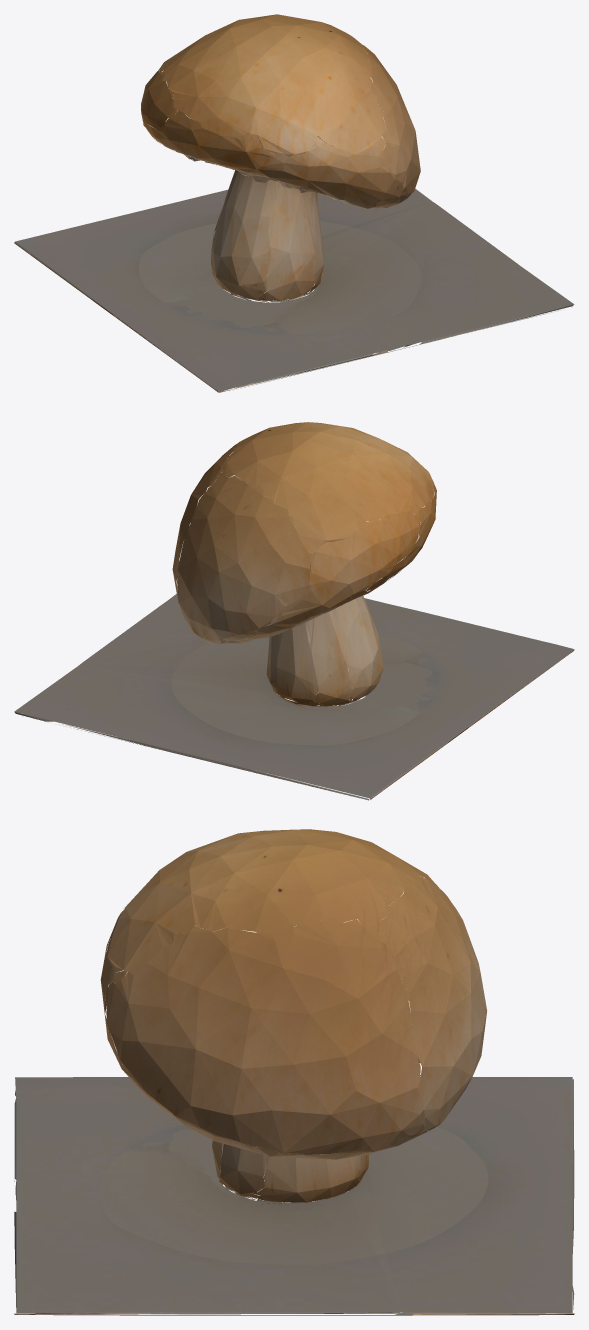
Rendered from mushroom.glb.
3 renders of one model, top to bottom at view 1: azimuth 30°, elevation 25°; view 2: azimuth 150°, elevation 25°; view 3: azimuth 270°, elevation 25°, orthographic. The views are drawn at different scales.
Visible parts, largest first — view 1: textured.obj; view 2: textured.obj; view 3: textured.obj.
Boxes of the visible parts, x1,y1,x2,y2 form: textured.obj: (14,14,574,392); textured.obj: (14,422,574,800); textured.obj: (14,829,574,1315).
Bounding box in the file's own units: 0.0594 × 0.0399 × 0.0595.
Materials: 1 (1 with a texture image).
